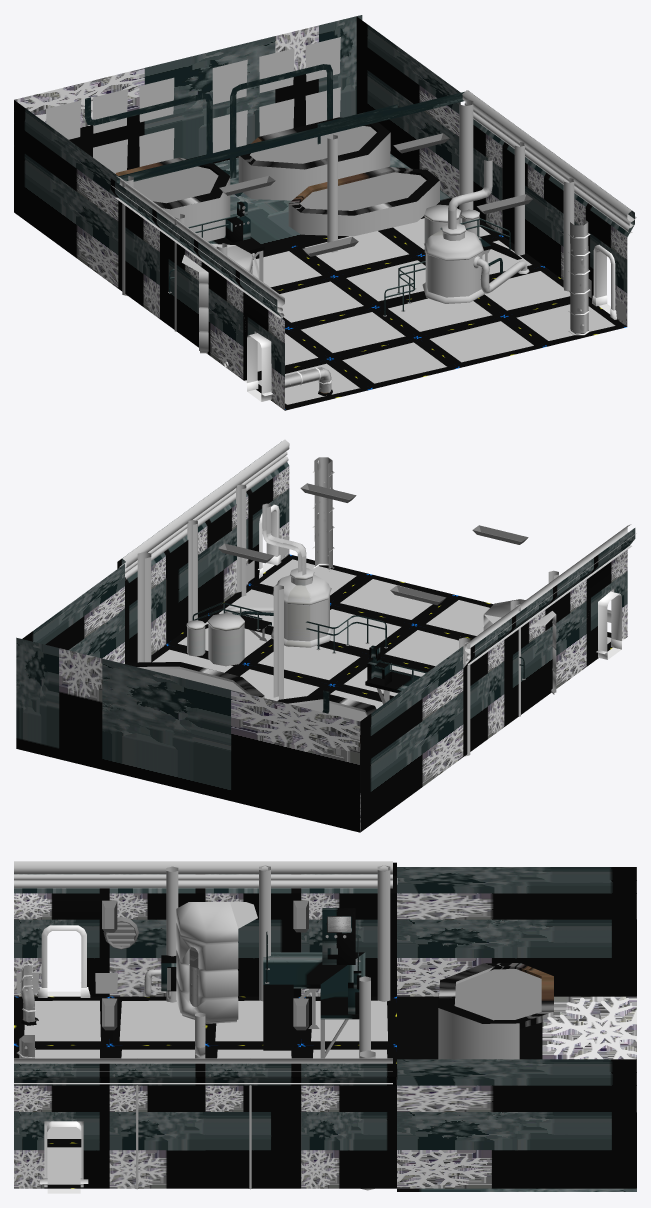
File: MSH_Water_Purification_room_L2_R2_optimized.fbx
3 views of the same model, one above another, from view 1: azimuth 30°, elevation 25°; view 2: azimuth 150°, elevation 25°; view 3: azimuth 270°, elevation 25° (orthographic). The views are drawn at different scales.
Parts seen in each view (by area): view 1: lightmap1, MSH_Water_Purification_room_L2_R2_water, lightmap-1; view 2: lightmap1, MSH_Water_Purification_room_L2_R2_water, lightmap-1; view 3: lightmap1, MSH_Water_Purification_room_L2_R2_water, lightmap-1.
Boxes of the visible parts, box(x1,y1,x2,y2) form: lightmap1: box(14, 15, 636, 410); MSH_Water_Purification_room_L2_R2_water: box(133, 126, 588, 392); lightmap-1: box(247, 233, 610, 401); lightmap1: box(16, 439, 636, 832); MSH_Water_Purification_room_L2_R2_water: box(146, 457, 611, 734); lightmap-1: box(259, 471, 621, 659); lightmap1: box(14, 861, 636, 1191); MSH_Water_Purification_room_L2_R2_water: box(19, 947, 541, 1058); lightmap-1: box(17, 964, 81, 1193).
Bounding box in the file's own units: 20.73 × 6.9 × 26.86.
